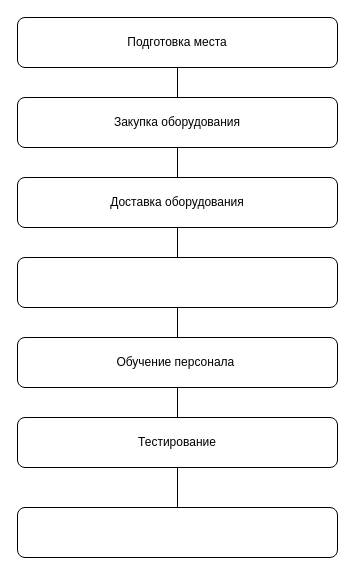
The diagram is 355 pixels wide and 575 high, and some of its shapes have lost their labels. The shapes that lost their labels are listed below. From the top down, each one's centre as x and y in pixels, then its label:
At pixel 177 282: "Установка и настройка оборудования".
At pixel 177 532: "Открытие ларька".
